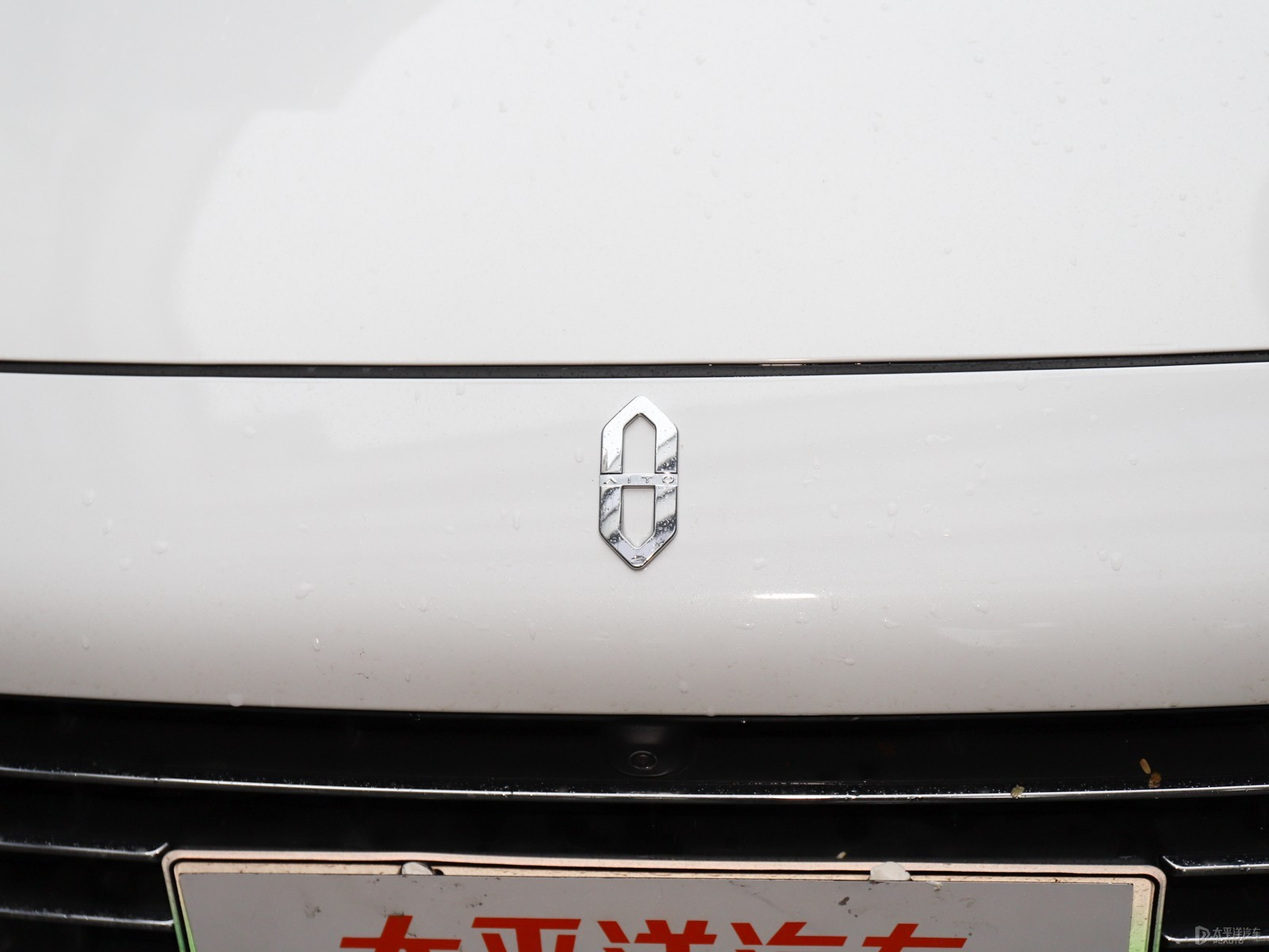AITO: (600, 397, 677, 570)
